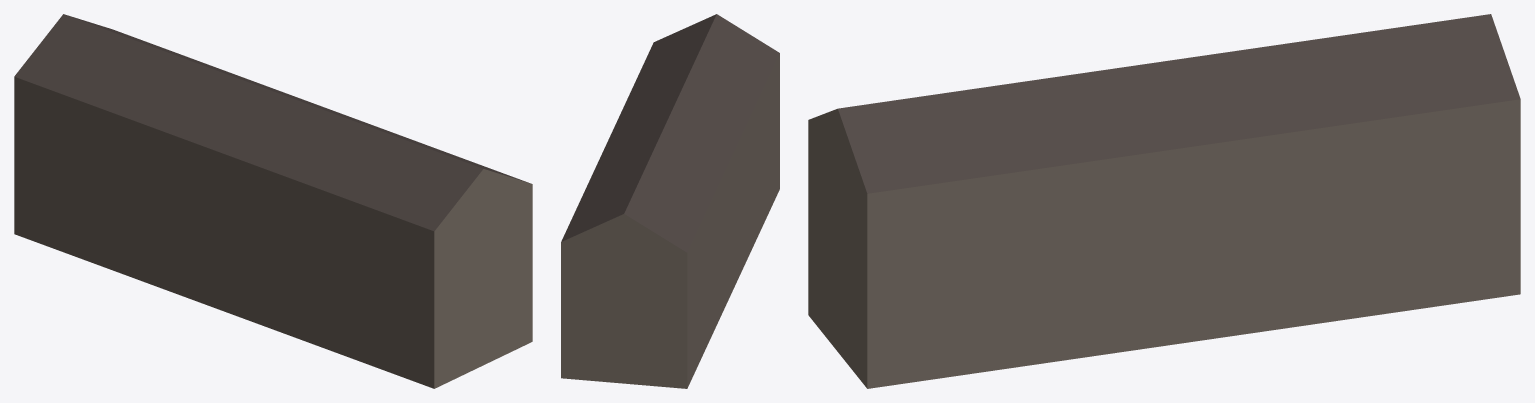
3 views of the same model, side by side, from view 1: azimuth 30°, elevation 25°; view 2: azimuth 150°, elevation 25°; view 3: azimuth 270°, elevation 25° (orthographic). The views are drawn at different scales.
Parts seen in each view (by area): view 1: HP-w408450788; view 2: HP-w408450788; view 3: HP-w408450788.
Part boxes in pixels (box(x1,y1,x2,y2)): HP-w408450788: box(14, 14, 532, 388); HP-w408450788: box(561, 14, 779, 388); HP-w408450788: box(808, 14, 1520, 388).
Size of the model in its own units: 16.67 by 11.23 by 29.78.
